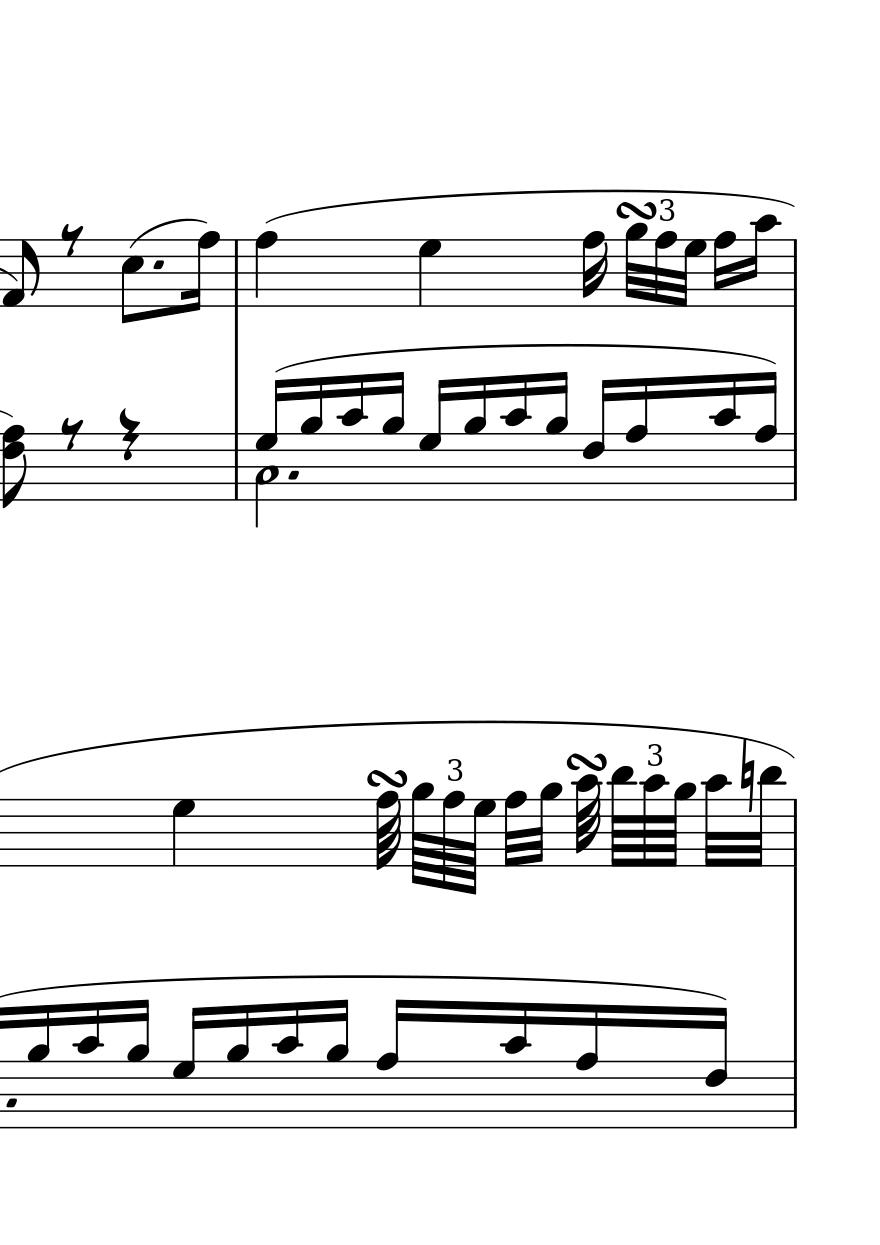16_10: (337, 372, 367, 502), (501, 373, 531, 502), (272, 1001, 302, 1130), (73, 1000, 102, 1129), (710, 371, 738, 502), (502, 1001, 530, 1129), (746, 212, 781, 309)
16_6: (581, 377, 616, 504), (704, 1003, 730, 1132)
16_7: (170, 1003, 203, 1130), (416, 376, 449, 502)
16_8: (623, 376, 650, 502), (753, 370, 778, 504), (182, 230, 220, 312), (581, 230, 606, 308)
16_9: (324, 996, 349, 1131), (544, 369, 569, 503), (462, 375, 488, 503), (380, 369, 405, 502), (225, 1002, 250, 1131), (125, 996, 149, 1130), (299, 375, 324, 503), (26, 1003, 50, 1130), (711, 228, 736, 310)
3: (644, 742, 665, 768), (445, 757, 464, 783)
32_10: (572, 772, 602, 868)
32_7: (675, 238, 706, 309)
32_8: (374, 790, 402, 871), (503, 790, 527, 871), (653, 229, 676, 311)
32_9: (533, 780, 562, 868), (623, 221, 649, 312)
4_7: (416, 237, 442, 308), (170, 798, 196, 867)
4_8: (252, 230, 277, 309)
64_10: (637, 772, 667, 868), (702, 771, 731, 869)
64_11: (750, 764, 784, 869), (608, 765, 635, 869)
64_7: (465, 797, 496, 897)
64_8: (440, 789, 464, 892)
64_9: (667, 780, 697, 871), (409, 780, 434, 889)
8_1: (2, 238, 41, 310)
8_5: (118, 238, 145, 326)
8_8: (374, 997, 408, 1132), (574, 1002, 600, 1132)
Natural: (738, 738, 756, 813)
Rests4: (116, 406, 140, 463)
Rests8: (59, 221, 86, 258), (59, 416, 85, 450)
Single_barline: (228, 239, 246, 307), (786, 434, 803, 501), (228, 433, 245, 499), (787, 799, 803, 867), (787, 1061, 803, 1128), (788, 239, 802, 308)
Slur: (267, 189, 791, 224), (130, 217, 209, 249)
Turn: (614, 197, 660, 222), (562, 750, 609, 773), (363, 767, 411, 789)
dot: (151, 257, 166, 273), (286, 468, 301, 482)
